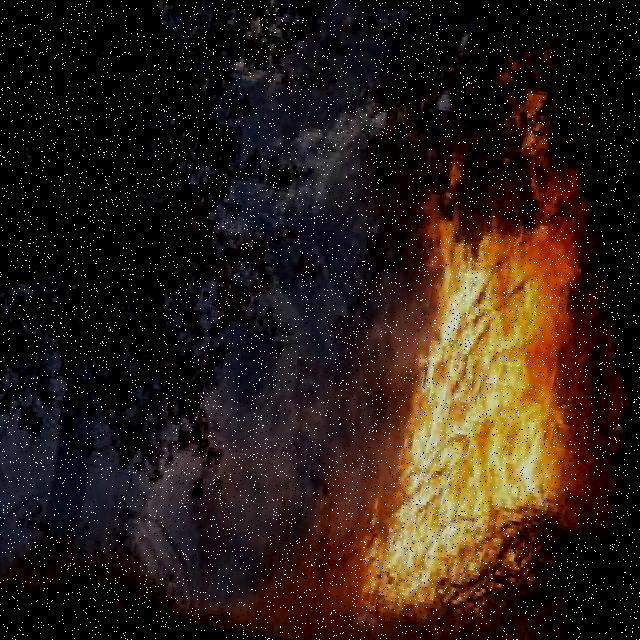Fire: (354, 169, 617, 640)
